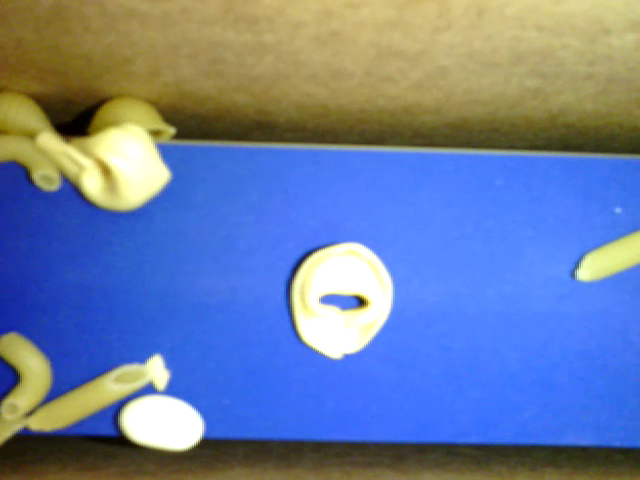elbow: (1, 328, 57, 415), (1, 132, 76, 189)
penne: (22, 355, 155, 433), (572, 231, 639, 282)
shell: (89, 94, 177, 144), (1, 93, 70, 134)
tortellini: (285, 239, 394, 361), (34, 131, 175, 214)
